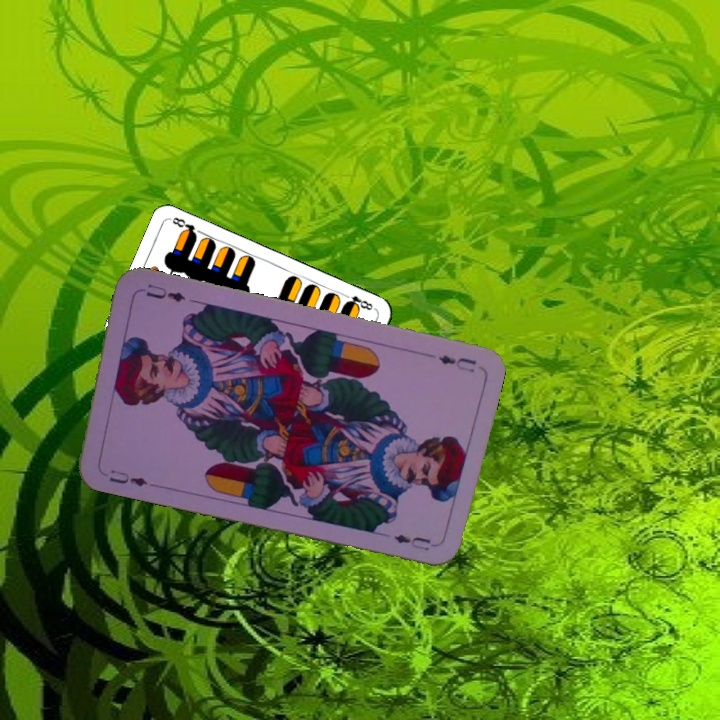E8: (339, 290, 378, 313)
EU: (105, 465, 150, 489), (434, 351, 479, 375)
